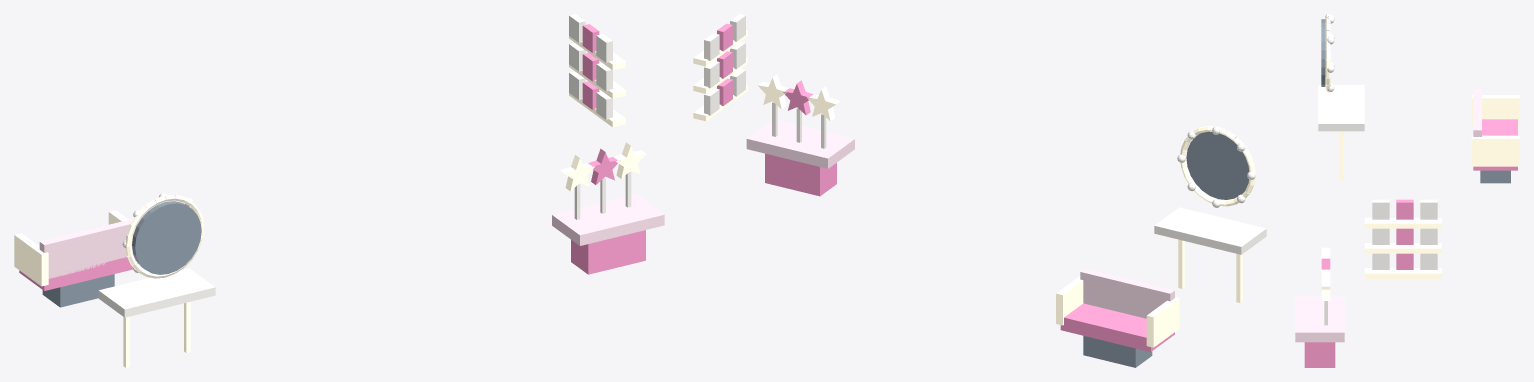
Rendered from studio-props-kpop.glb.
The picture shows the model from 3 angles, left to right: view 1: azimuth 30°, elevation 25°; view 2: azimuth 150°, elevation 25°; view 3: azimuth 270°, elevation 25°; orthographic projection. The views are drawn at different scales.
Visible parts, largest first — view 1: kpop original studio collection; view 2: kpop original studio collection; view 3: kpop original studio collection.
Part boxes in pixels (box(x1,y1,x2,y2)): kpop original studio collection: box(14, 14, 664, 367); kpop original studio collection: box(693, 14, 1266, 367); kpop original studio collection: box(1295, 14, 1519, 367).
Size of the model in its own units: 8.71 by 3.02 by 3.64.
